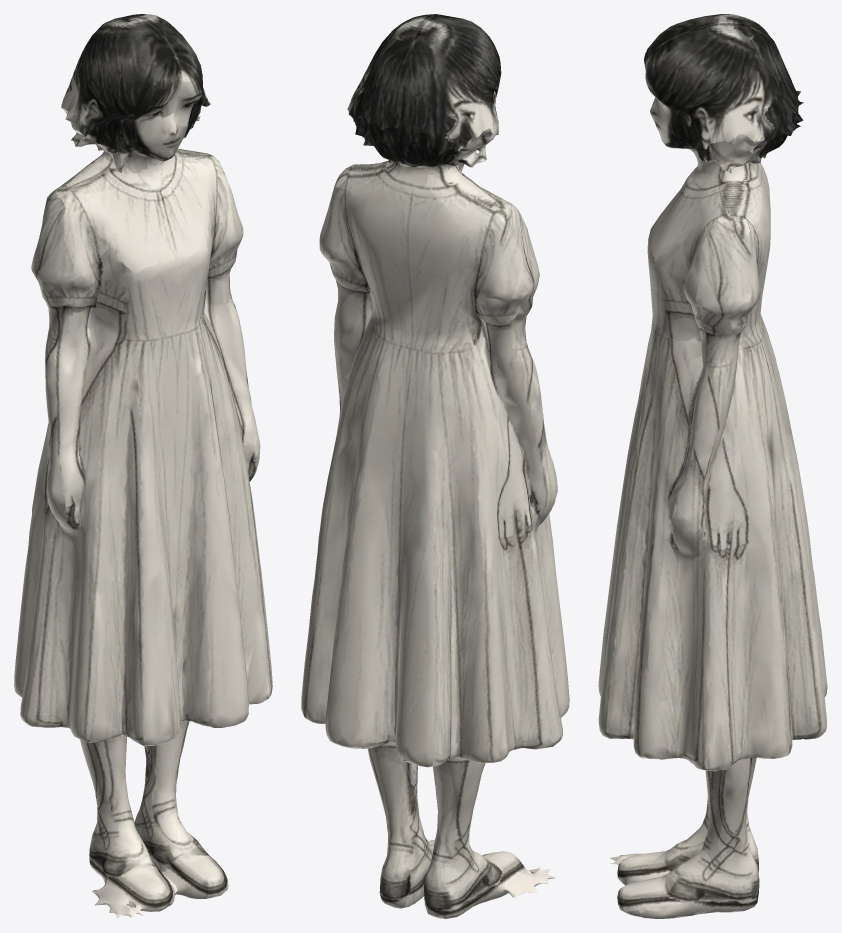
File: elara.glb
The picture shows the model from 3 angles, left to right: view 1: azimuth 30°, elevation 25°; view 2: azimuth 150°, elevation 25°; view 3: azimuth 270°, elevation 25°; orthographic projection. The views are drawn at different scales.
Visible parts, largest first — view 1: geometry_0; view 2: geometry_0; view 3: geometry_0.
Boxes of the visible parts, <box> form: geometry_0: <box>14,14,272,918</box>; geometry_0: <box>301,14,569,918</box>; geometry_0: <box>598,14,827,918</box>.
Size of the model in its own units: 0.5916 by 1.99 by 0.4731.
Materials: 1 (1 with a texture image).
